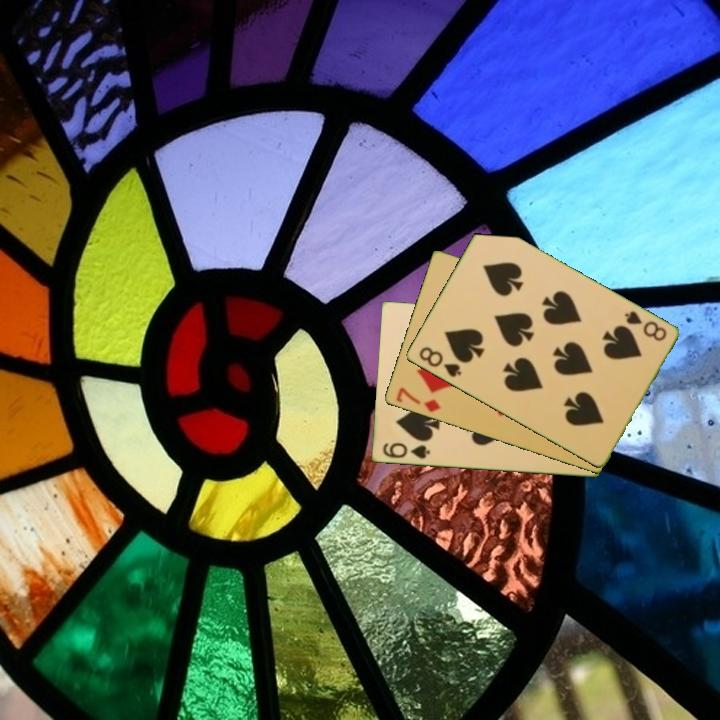6s: (379, 439, 432, 462)
7d: (392, 384, 443, 415)
8s: (415, 343, 464, 380), (620, 307, 669, 344)
